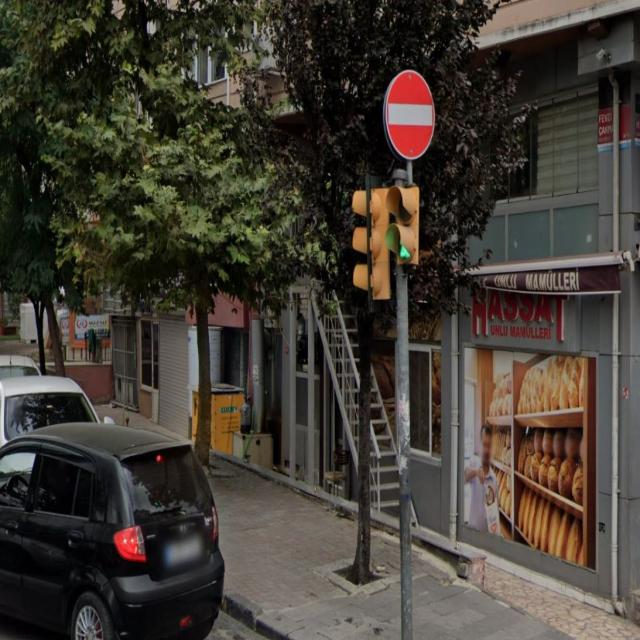girisyok: (386, 70, 434, 160)
